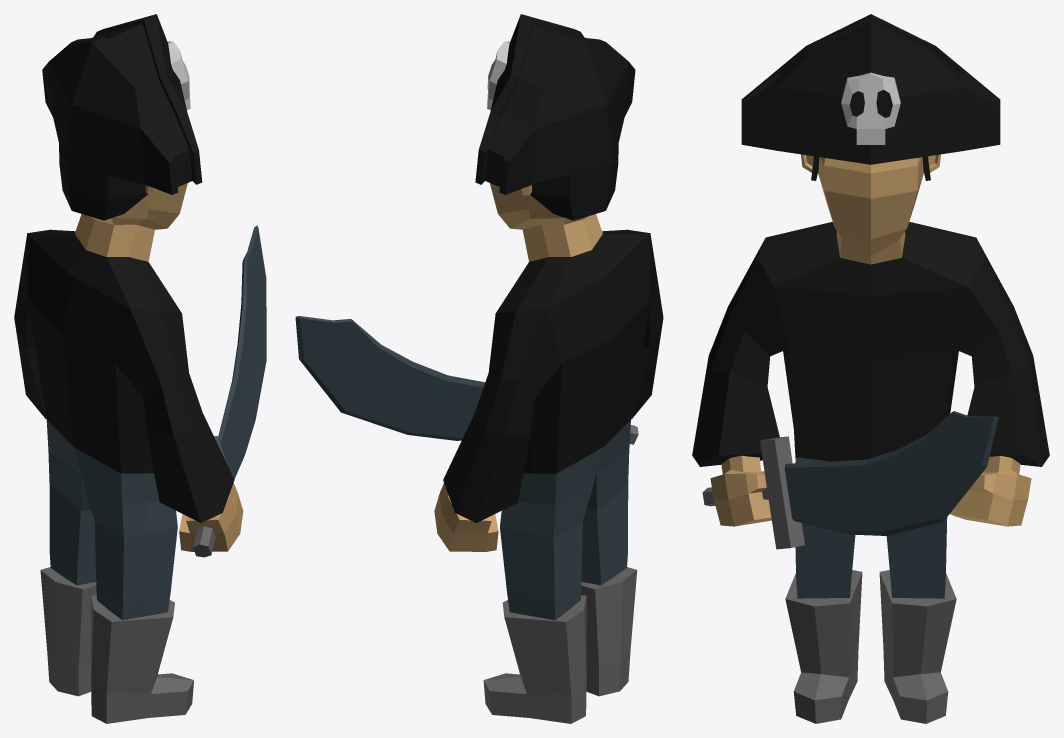
File: PirateAnimation.dae
3 views of the same model, side by side, from view 1: azimuth 30°, elevation 25°; view 2: azimuth 150°, elevation 25°; view 3: azimuth 270°, elevation 25° (orthographic). The views are drawn at different scales.
Visible parts, largest first — view 1: PirateAnimation; view 2: PirateAnimation; view 3: PirateAnimation.
Part boxes in pixels (<box>): PirateAnimation: <box>14,14,266,723</box>; PirateAnimation: <box>295,14,663,723</box>; PirateAnimation: <box>692,14,1049,723</box>.
Bounding box in the file's own units: 0.4081 × 1.01 × 0.4789.
